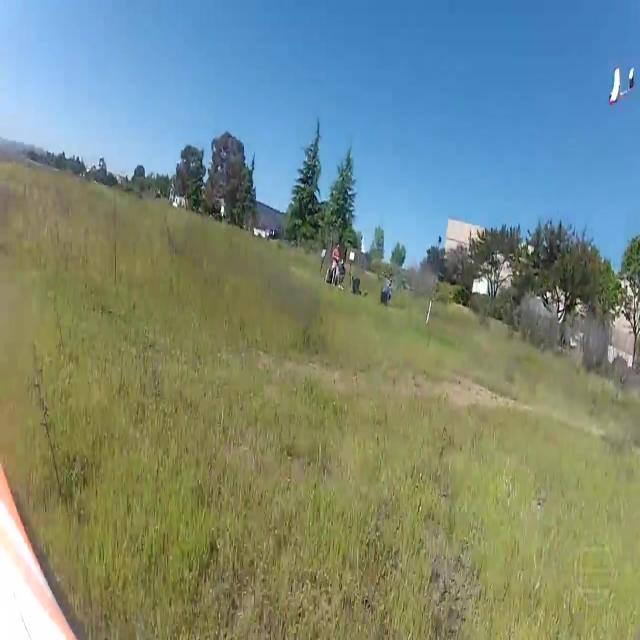iha: (607, 0, 635, 42)
